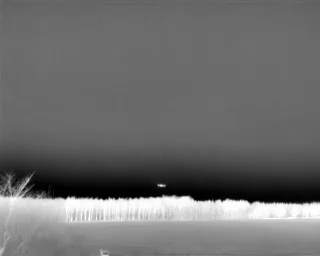DRONE: (154, 180, 169, 192)
